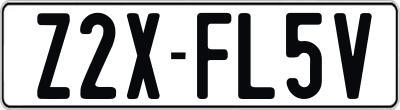2: (80, 12, 122, 98)
5: (286, 11, 326, 98)
F: (195, 13, 230, 104)
L: (235, 13, 278, 103)
V: (332, 11, 372, 102)
X: (124, 12, 162, 101)
Z: (34, 13, 70, 105)
